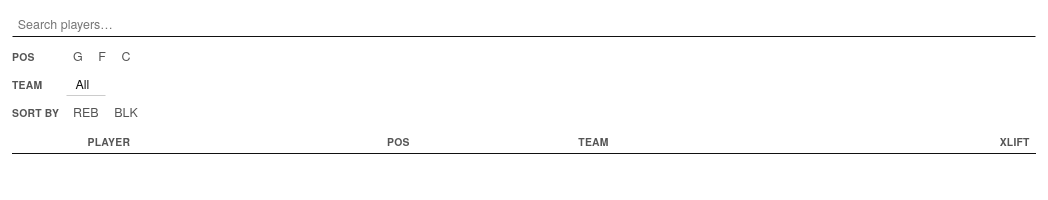
Test: player picker filters (013) › sort by categories adds a column named for them
Click the button "REB": (86, 112) [66,101,105,122]
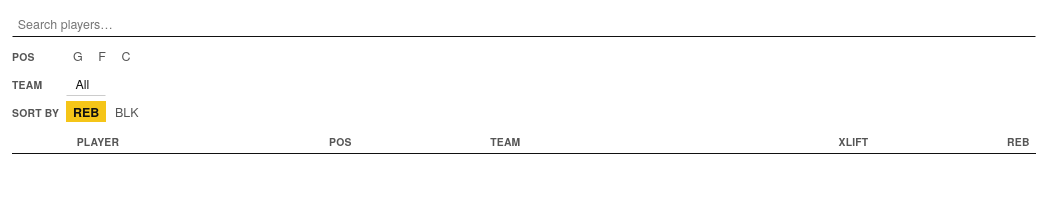
Click the button "BLK": (127, 112) [108,101,145,122]
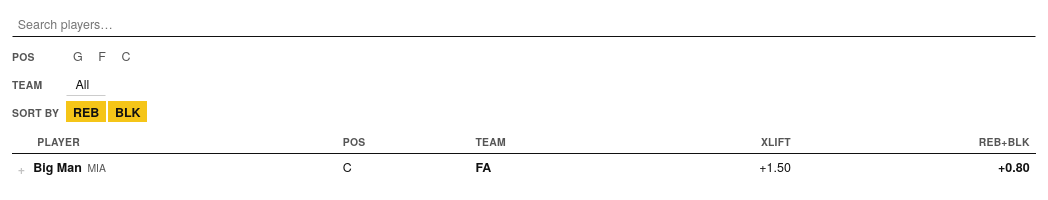
Expected: the column heading "REB+BLK" is shown, [797,130,1036,154]
Expected: the text "+0.80" is shown, [797,154,1036,183]
